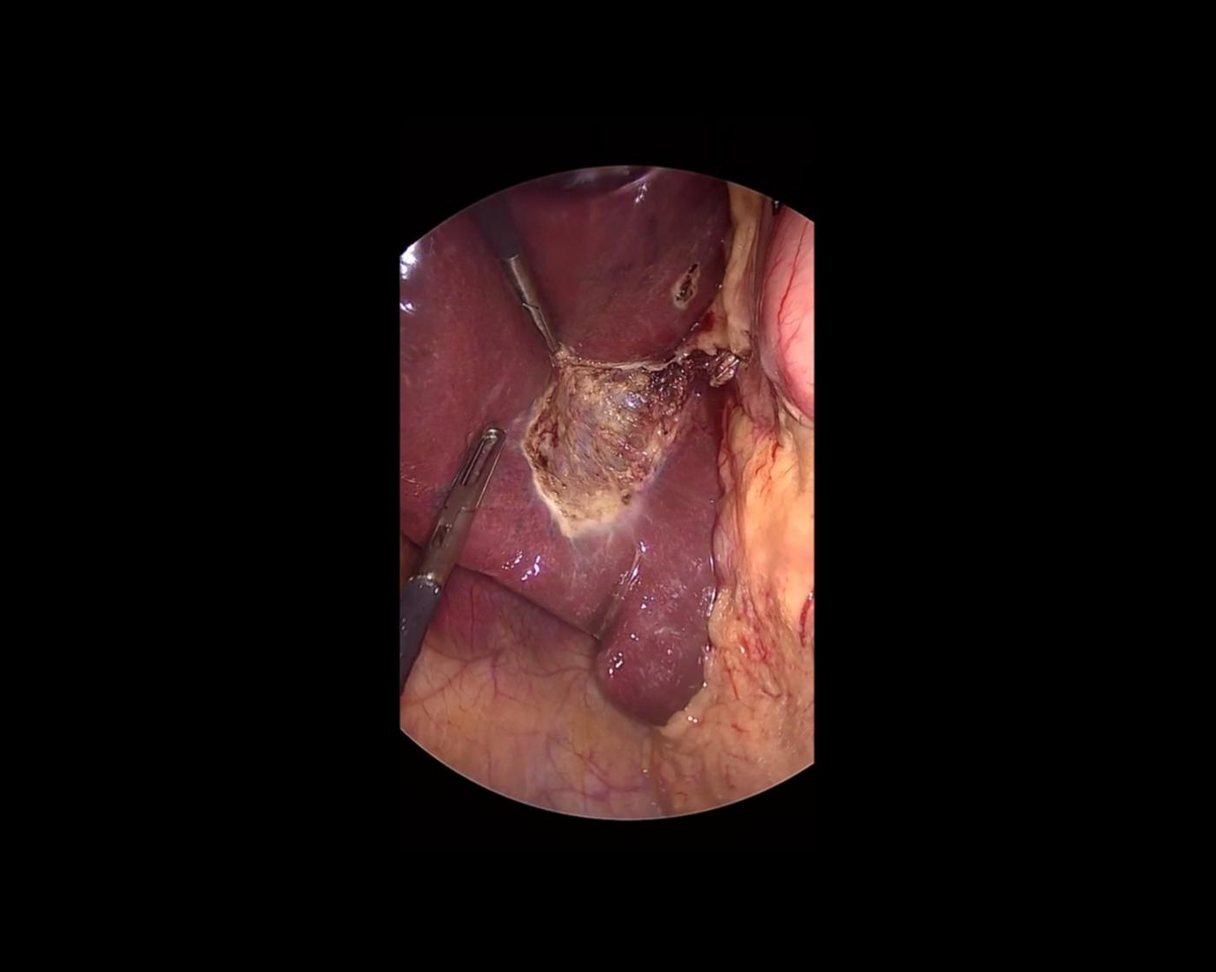Forceps: (364, 417, 509, 694), (464, 191, 565, 364)
Liver: (384, 156, 730, 725)
